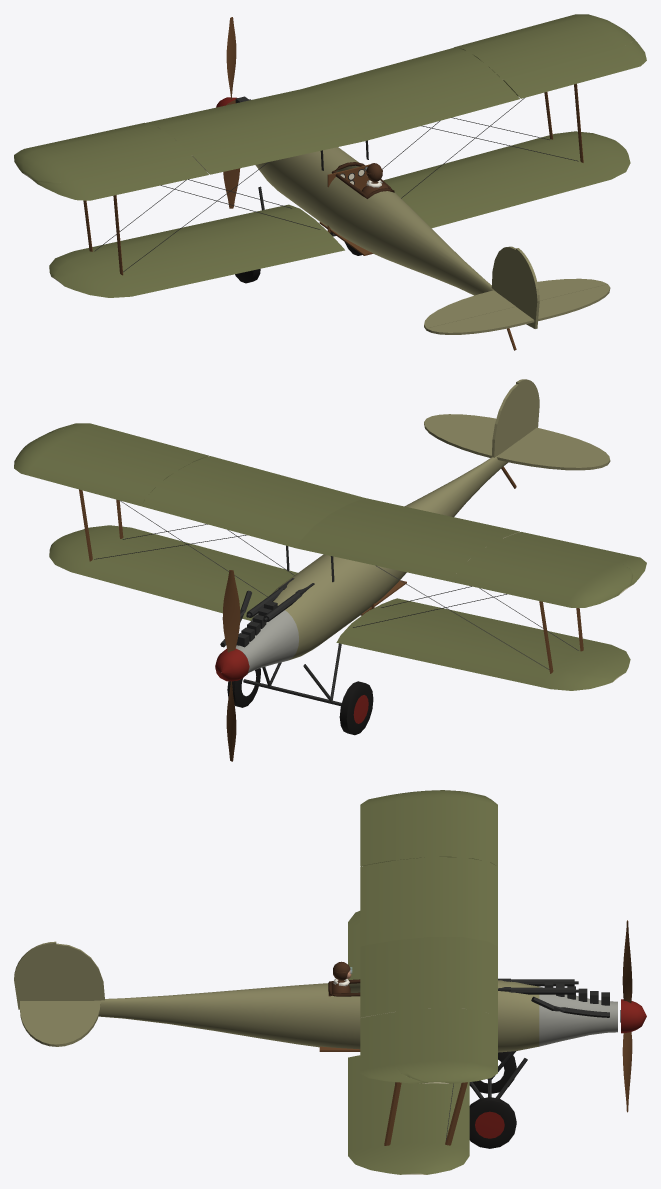
File: albatros_dii.glb
3 views of the same model, one above another, from view 1: azimuth 30°, elevation 25°; view 2: azimuth 150°, elevation 25°; view 3: azimuth 270°, elevation 25° (orthographic).
Visible parts, largest first — view 1: Wing_Upper_R, Wing_Upper_L, Wing_Lower_L, Wing_Lower_R, Fuselage, Aileron_L, Aileron_R, Elevator, Stabilizer_L, Rudder, Wires, PropBlades (+5 smaller); view 2: Wing_Upper_R, Wing_Upper_L, Wing_Lower_L, Wing_Lower_R, Fuselage, PropBlades, Elevator, Wheels, Stabilizer_L, Aileron_L, Aileron_R, Stabilizer_R (+7 smaller); view 3: Wing_Upper_L, Wing_Upper_R, Fuselage, Wing_Lower_R, Wheels, Aileron_R, Aileron_L, Fin, Rudder, PropBlades, Stabilizer_R, Elevator (+5 smaller).
Part boxes in pixels (x1=…): Wing_Upper_R: x1=301, y1=14, x2=632, y2=140; Wing_Upper_L: x1=14, y1=89, x2=364, y2=182; Wing_Lower_L: x1=49, y1=204, x2=344, y2=297; Wing_Lower_R: x1=383, y1=131, x2=630, y2=228; Fuselage: x1=255, y1=147, x2=495, y2=295; Aileron_L: x1=33, y1=155, x2=208, y2=200; Aileron_R: x1=503, y1=35, x2=646, y2=98; Elevator: x1=426, y1=284, x2=610, y2=334; Stabilizer_L: x1=424, y1=290, x2=515, y2=330; Rudder: x1=516, y1=248, x2=539, y2=328; Wires: x1=94, y1=98, x2=578, y2=272; PropBlades: x1=216, y1=17, x2=240, y2=208; Wing_Upper_R: x1=14, y1=429, x2=364, y2=548; Wing_Upper_L: x1=296, y1=498, x2=632, y2=607; Wing_Lower_L: x1=336, y1=598, x2=630, y2=690; Wing_Lower_R: x1=49, y1=525, x2=297, y2=620; Fuselage: x1=236, y1=454, x2=508, y2=673; PropBlades: x1=215, y1=570, x2=249, y2=761; Elevator: x1=427, y1=414, x2=610, y2=464; Wheels: x1=227, y1=668, x2=373, y2=735; Stabilizer_L: x1=497, y1=440, x2=607, y2=470; Aileron_L: x1=503, y1=532, x2=646, y2=586; Aileron_R: x1=49, y1=423, x2=208, y2=462; Stabilizer_R: x1=424, y1=418, x2=492, y2=457; Wing_Upper_L: x1=360, y1=790, x2=497, y2=946; Wing_Upper_R: x1=360, y1=937, x2=497, y2=1083; Fuselage: x1=94, y1=980, x2=617, y2=1052; Wing_Lower_R: x1=348, y1=1055, x2=469, y2=1174; Wheels: x1=469, y1=1051, x2=516, y2=1148; Aileron_R: x1=360, y1=1012, x2=427, y2=1083; Aileron_L: x1=360, y1=792, x2=406, y2=866; Fin: x1=56, y1=943, x2=104, y2=1000; Rudder: x1=14, y1=941, x2=56, y2=1009; PropBlades: x1=620, y1=920, x2=646, y2=1112; Stabilizer_R: x1=56, y1=1001, x2=100, y2=1046; Elevator: x1=20, y1=1001, x2=56, y2=1046.
Bounding box in the file's own units: 8.5 × 2.71 × 7.81.
